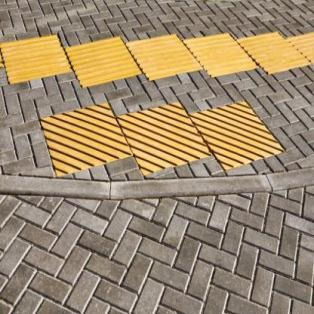Podoctatil: (41, 99, 284, 177), (0, 30, 312, 85)
